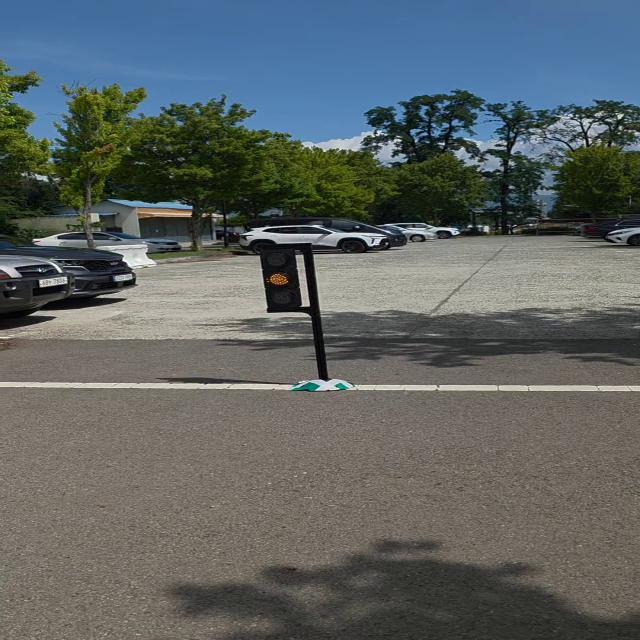yellow: (249, 247, 312, 319)
